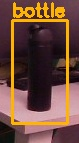bottle: (12, 20, 67, 123)
